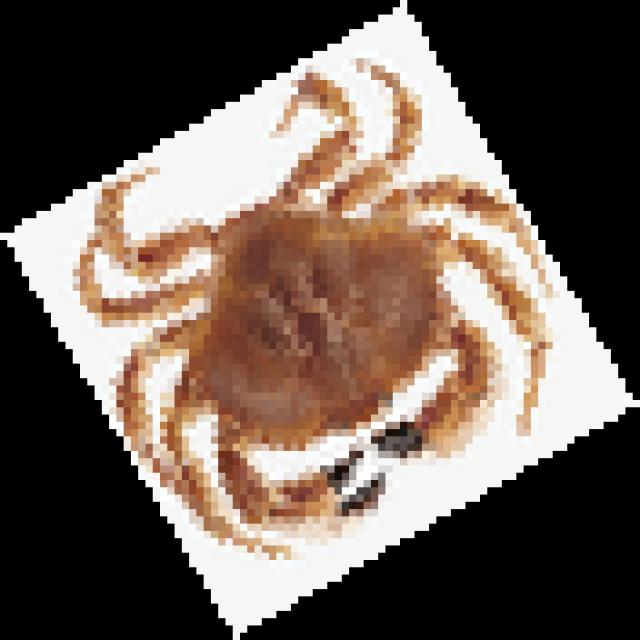Native Jonah crab: (73, 58, 545, 553)
